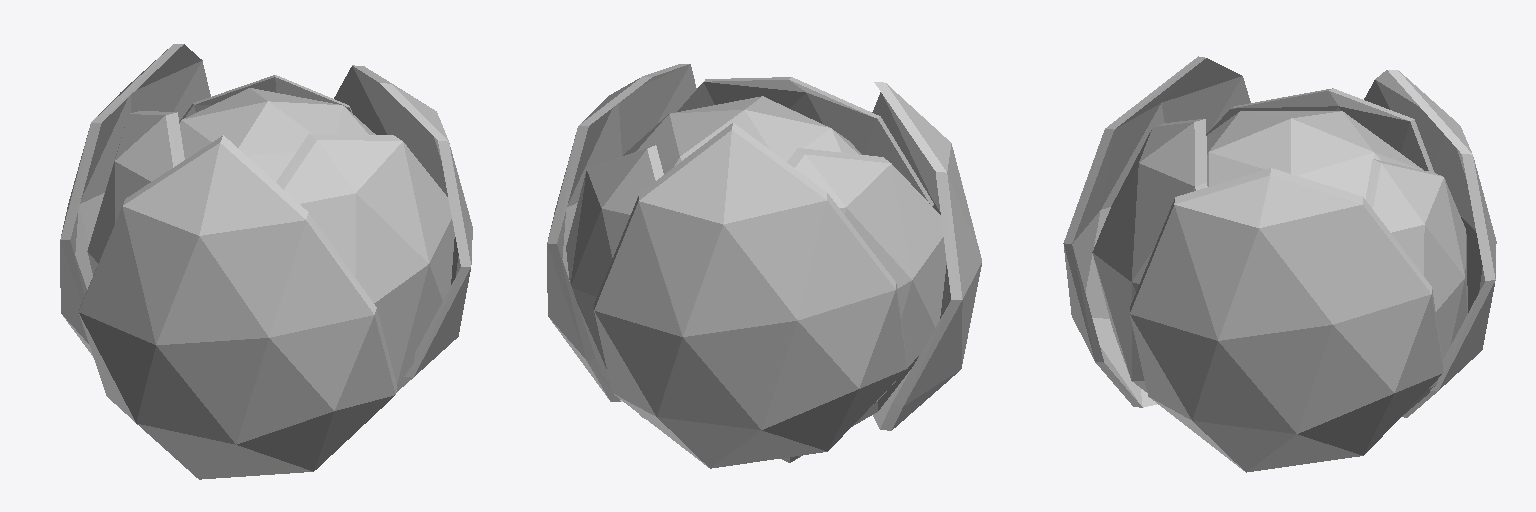
Rendered from cabbageStage4.obj.
The picture shows the model from 3 angles: view 1: azimuth 30°, elevation 25°; view 2: azimuth 150°, elevation 25°; view 3: azimuth 270°, elevation 25°; orthographic projection.
Parts seen in each view (by area): view 1: Cabbage4; view 2: Cabbage4; view 3: Cabbage4.
Part boxes in pixels (left/top/right/bottom): Cabbage4: left=60, top=44, right=472, bottom=479; Cabbage4: left=547, top=64, right=981, bottom=468; Cabbage4: left=1063, top=56, right=1496, bottom=472.
Size of the model in its own units: 0.7457 by 0.6791 by 0.7518.